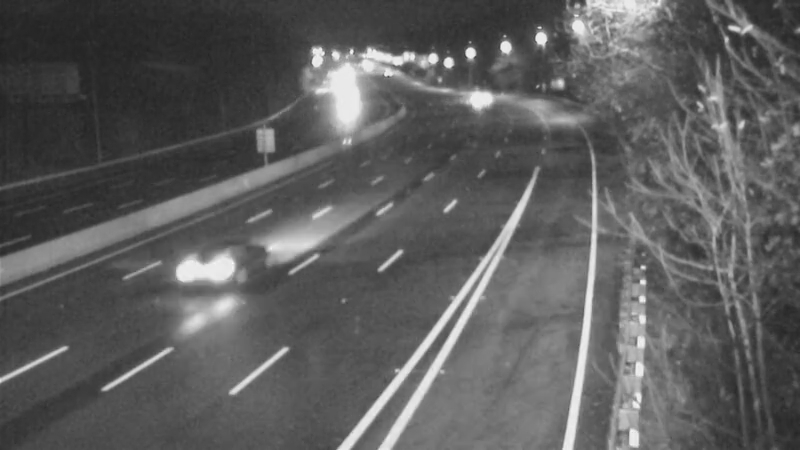vehicle: (169, 222, 249, 302), (445, 71, 495, 121), (319, 73, 369, 123)
